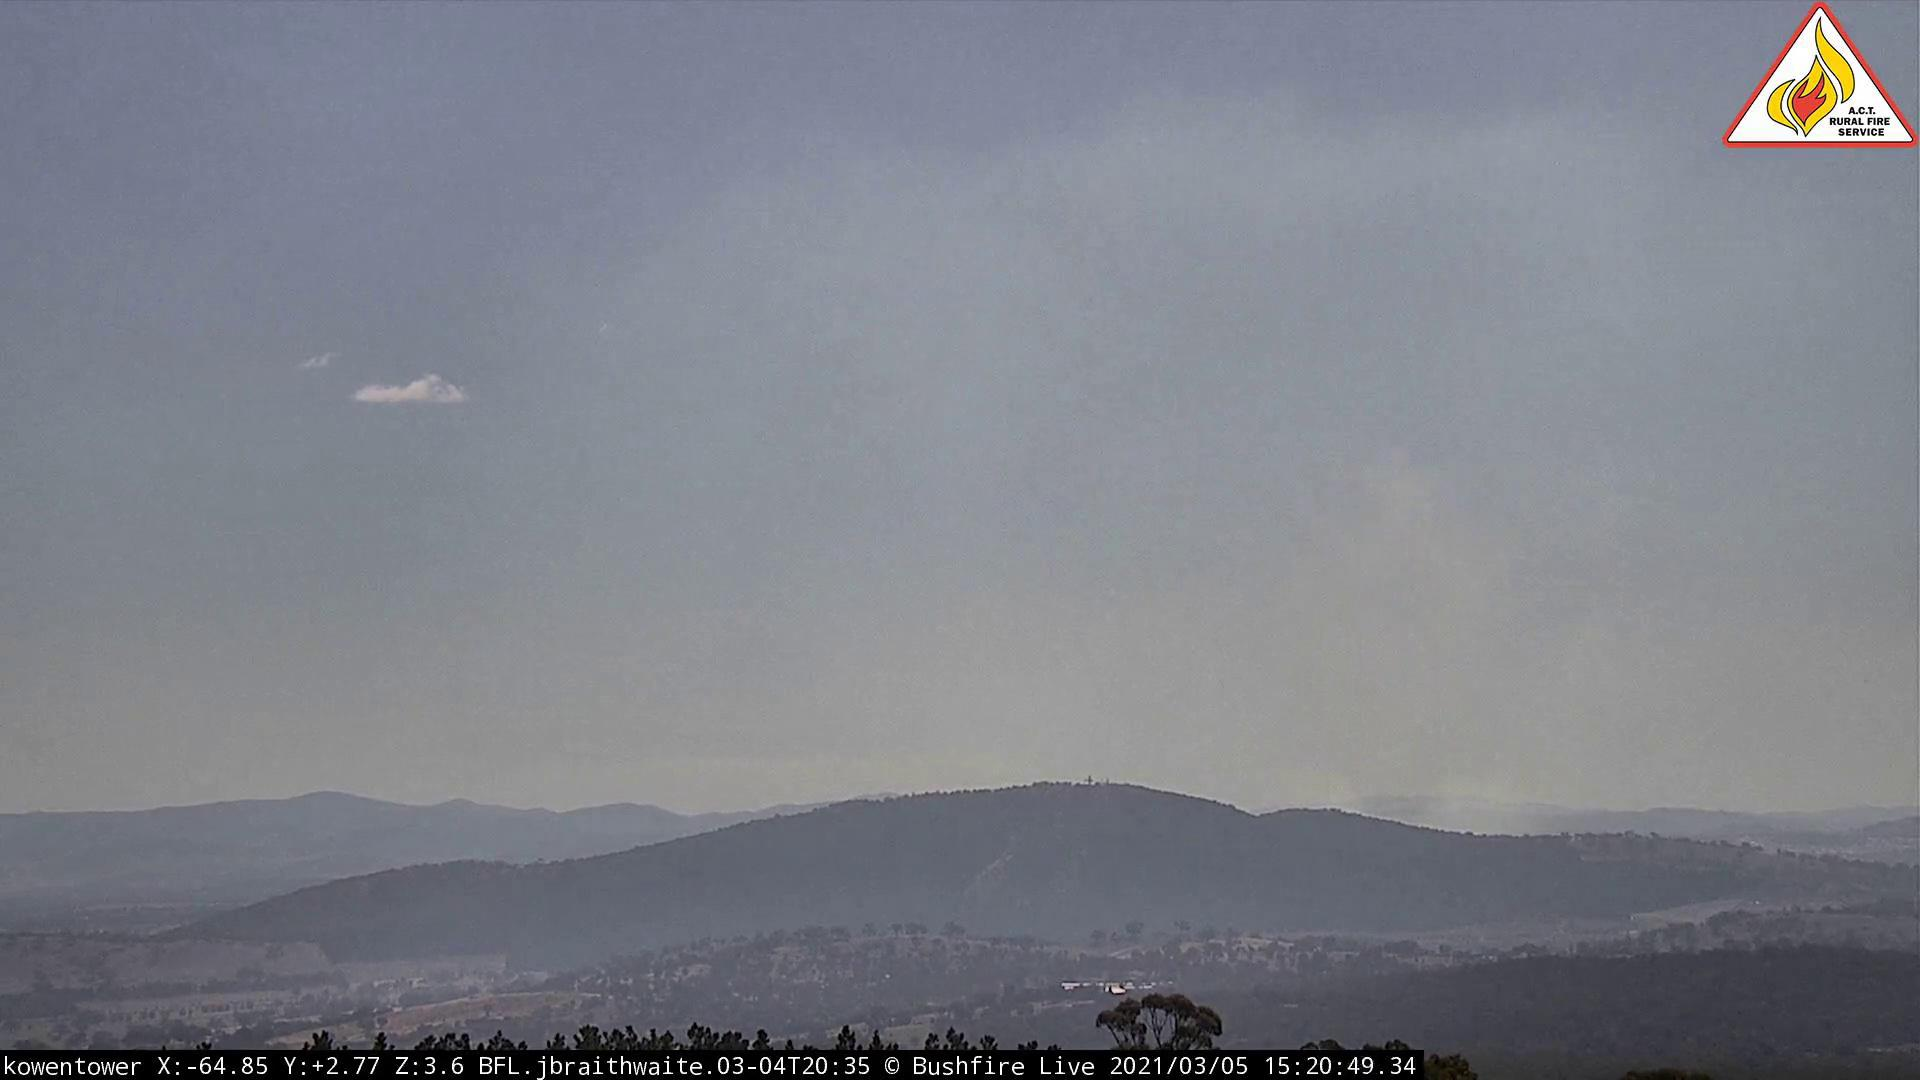Smoke: (1133, 436, 1563, 847)
